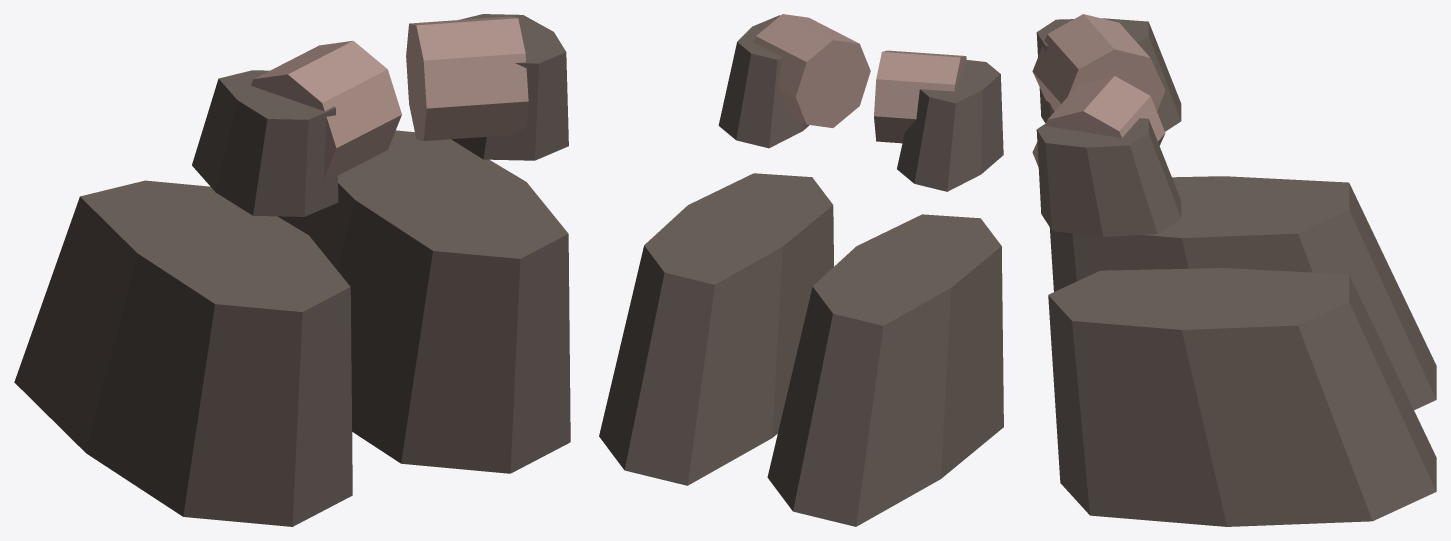
Rendered from boar_foot_hl_01.glb.
The picture shows the model from 3 angles, left to right: view 1: azimuth 30°, elevation 25°; view 2: azimuth 150°, elevation 25°; view 3: azimuth 270°, elevation 25°; orthographic projection. The views are drawn at different scales.
Visible parts, largest first — view 1: HindLClove0, HindLClove1, HindLDewclaw2, HindLDewclawMount3, HindLDewclawMount2, HindLDewclaw3; view 2: HindLClove0, HindLClove1, HindLDewclaw2, HindLDewclawMount3, HindLDewclaw3, HindLDewclawMount2; view 3: HindLClove1, HindLClove0, HindLDewclaw3, HindLDewclawMount2, HindLDewclawMount3, HindLDewclaw2.
Boxes of the visible parts, left/top/right/bottom form: HindLClove0: left=14, top=180, right=352, bottom=526; HindLClove1: left=278, top=130, right=570, bottom=473; HindLDewclaw2: left=192, top=70, right=338, bottom=216; HindLDewclawMount3: left=406, top=16, right=528, bottom=141; HindLDewclawMount2: left=251, top=40, right=401, bottom=179; HindLDewclaw3: left=451, top=14, right=568, bottom=160; HindLClove0: left=767, top=214, right=1003, bottom=526; HindLClove1: left=599, top=173, right=833, bottom=485; HindLDewclaw2: left=897, top=60, right=1003, bottom=191; HindLDewclawMount3: left=754, top=14, right=870, bottom=127; HindLDewclaw3: left=718, top=15, right=809, bottom=148; HindLDewclawMount2: left=874, top=50, right=966, bottom=143; HindLClove1: left=1048, top=268, right=1436, bottom=526; HindLClove0: left=1049, top=176, right=1436, bottom=410; HindLDewclaw3: left=1036, top=118, right=1181, bottom=236; HindLDewclawMount2: left=1032, top=14, right=1165, bottom=111; HindLDewclawMount3: left=1032, top=76, right=1165, bottom=166; HindLDewclaw2: left=1036, top=18, right=1181, bottom=131.
Bounding box in the file's own units: 0.1917 × 0.201 × 0.1933.
